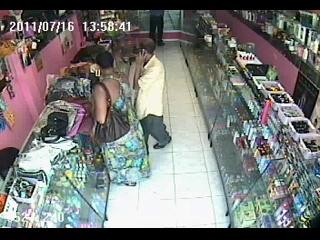Normal: (89, 57, 152, 186), (129, 38, 172, 153), (150, 10, 166, 46)
